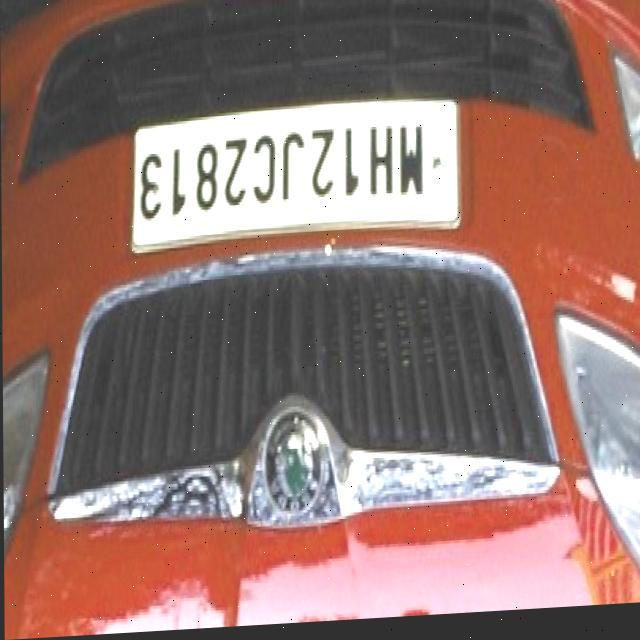plate: (130, 99, 464, 258)
